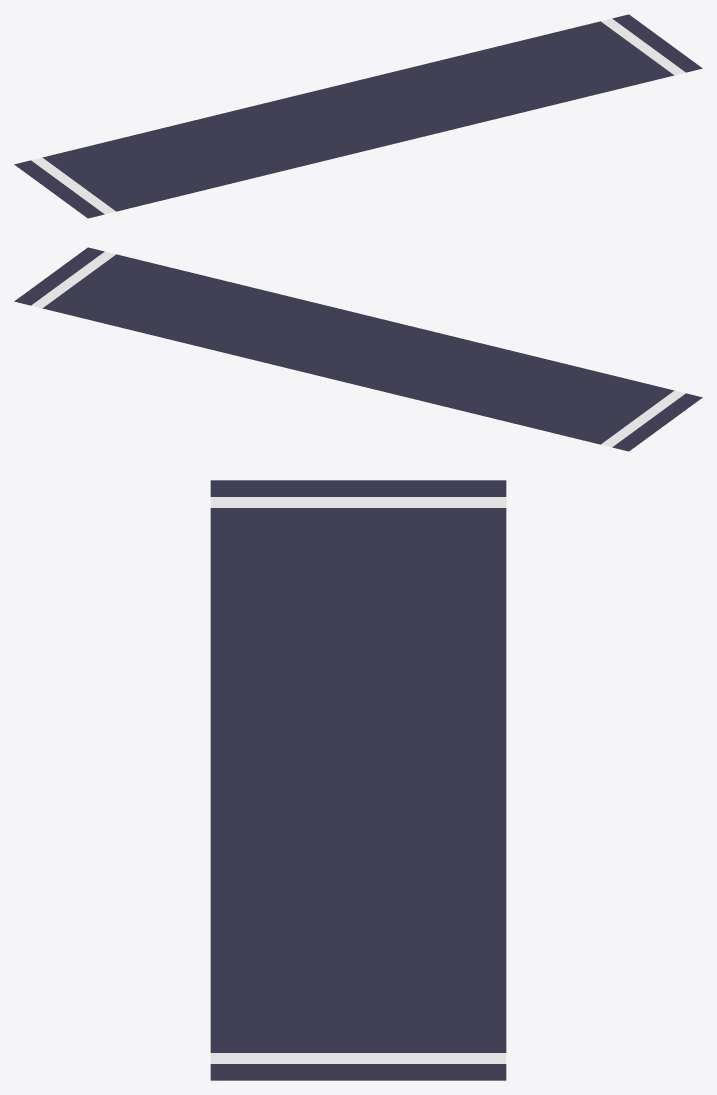
The model's file is block_4.fbx.
The picture shows the model from 3 angles, top to bottom: view 1: azimuth 30°, elevation 25°; view 2: azimuth 150°, elevation 25°; view 3: azimuth 270°, elevation 25°; orthographic projection. The views are drawn at different scales.
Visible parts, largest first — view 1: Block_1.011; view 2: Block_1.011; view 3: Block_1.011.
Part boxes in pixels (x1,y1,x2,y2): Block_1.011: (14,14,702,218); Block_1.011: (14,247,702,451); Block_1.011: (210,480,506,1080).
Bounding box in the file's own units: 19.78 × 0 × 4.12.
Materials: 1 (1 with a texture image).
